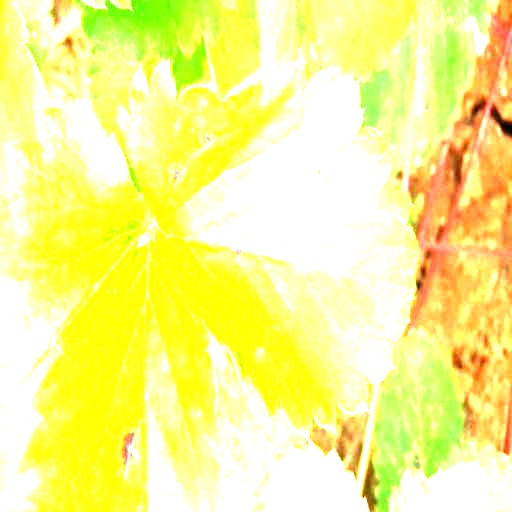Leaf Spot: (115, 58, 420, 441), (8, 242, 243, 511), (359, 0, 494, 182), (371, 329, 464, 511)
